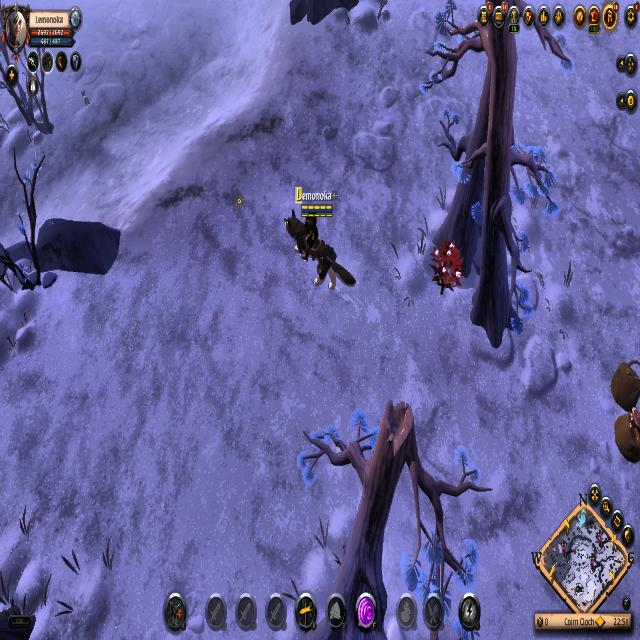fiber tier 5: (430, 237, 464, 299)
